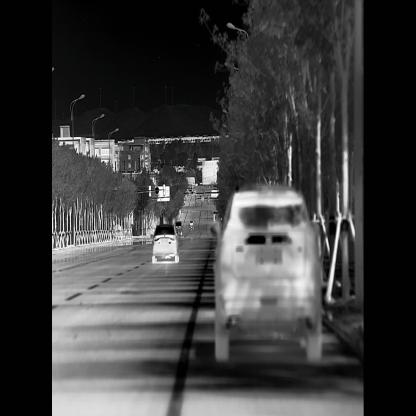car: (209, 178, 328, 369), (150, 220, 182, 265), (174, 219, 184, 236), (187, 182, 195, 196), (188, 218, 195, 232)
